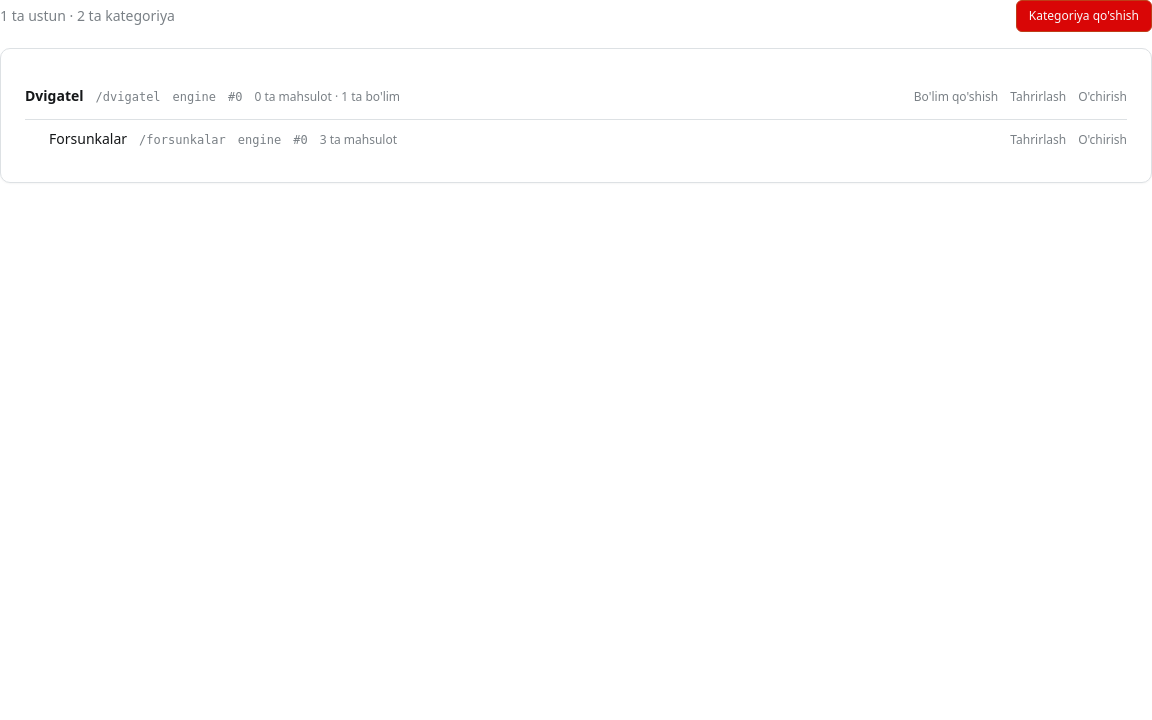
Scenario: CategoryManager deleting › refuses in place when the category still holds products
Click the 2nd button "O'chirish" at coordinates (1103, 140), box [1078,131,1127,149]
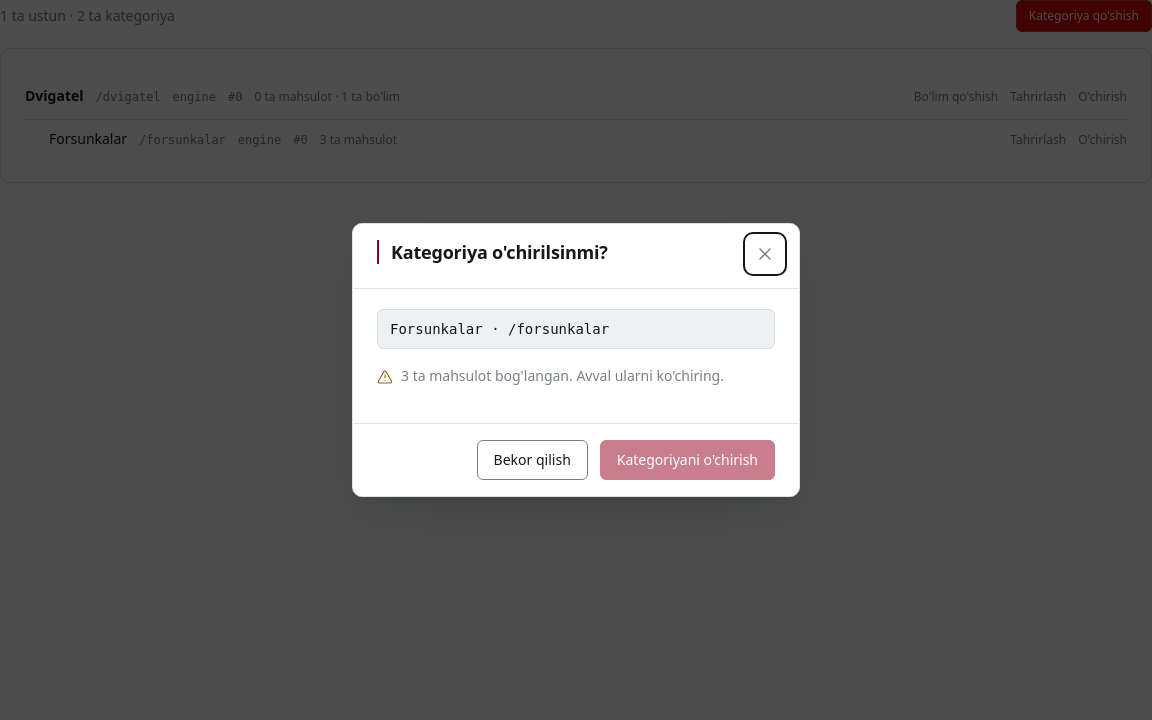
Expected: the text "3 ta mahsulot bog'langan. Avval ularni ko'chiring." is shown, [401,365,724,387]
Expected: the button "Kategoriyani o'chirish" is disabled, [600,440,775,480]
